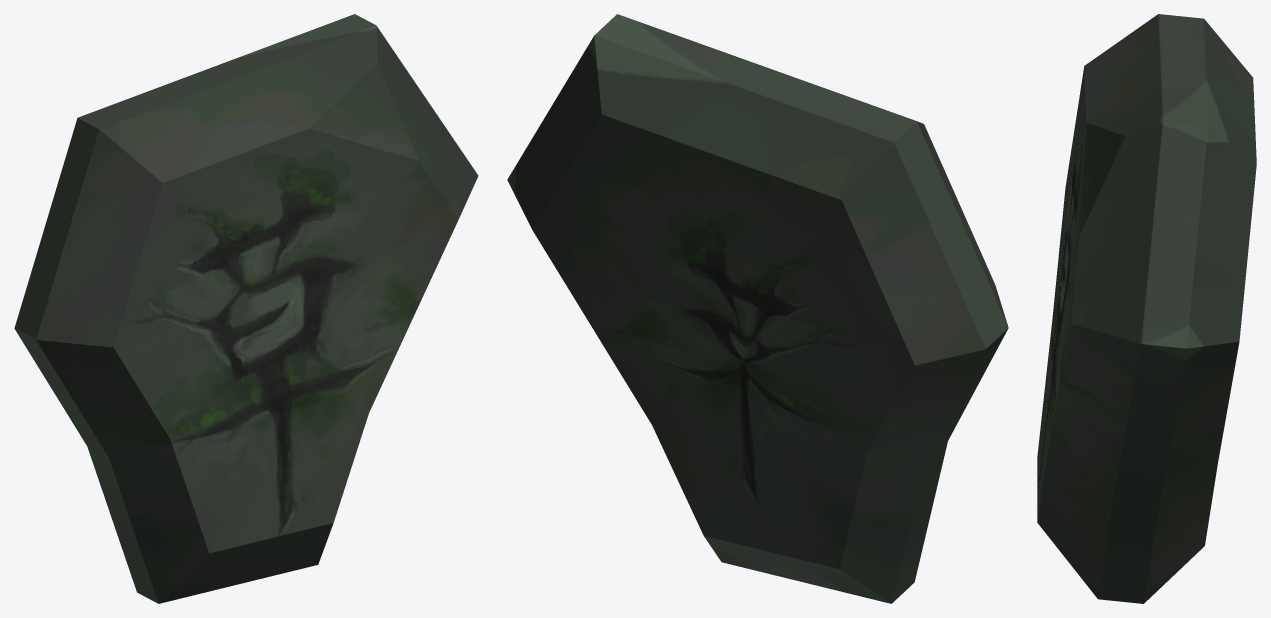
The model's file is runestone 1.fbx.
3 renders of one model, left to right at view 1: azimuth 30°, elevation 25°; view 2: azimuth 150°, elevation 25°; view 3: azimuth 270°, elevation 25°, orthographic. The views are drawn at different scales.
Visible parts, largest first — view 1: node_id4; view 2: node_id4; view 3: node_id4.
Boxes of the visible parts, x1=… form: node_id4: x1=14, y1=14, x2=478, y2=603; node_id4: x1=507, y1=14, x2=1008, y2=603; node_id4: x1=1037, y1=14, x2=1256, y2=603.
Bounding box in the file's own units: 0.4382 × 0.4695 × 0.177.
1 material, 1 textured.
